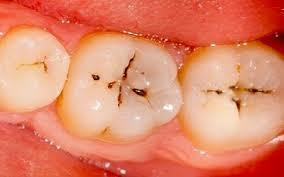cavity: (58, 24, 184, 150), (175, 29, 284, 162), (0, 20, 73, 121)
